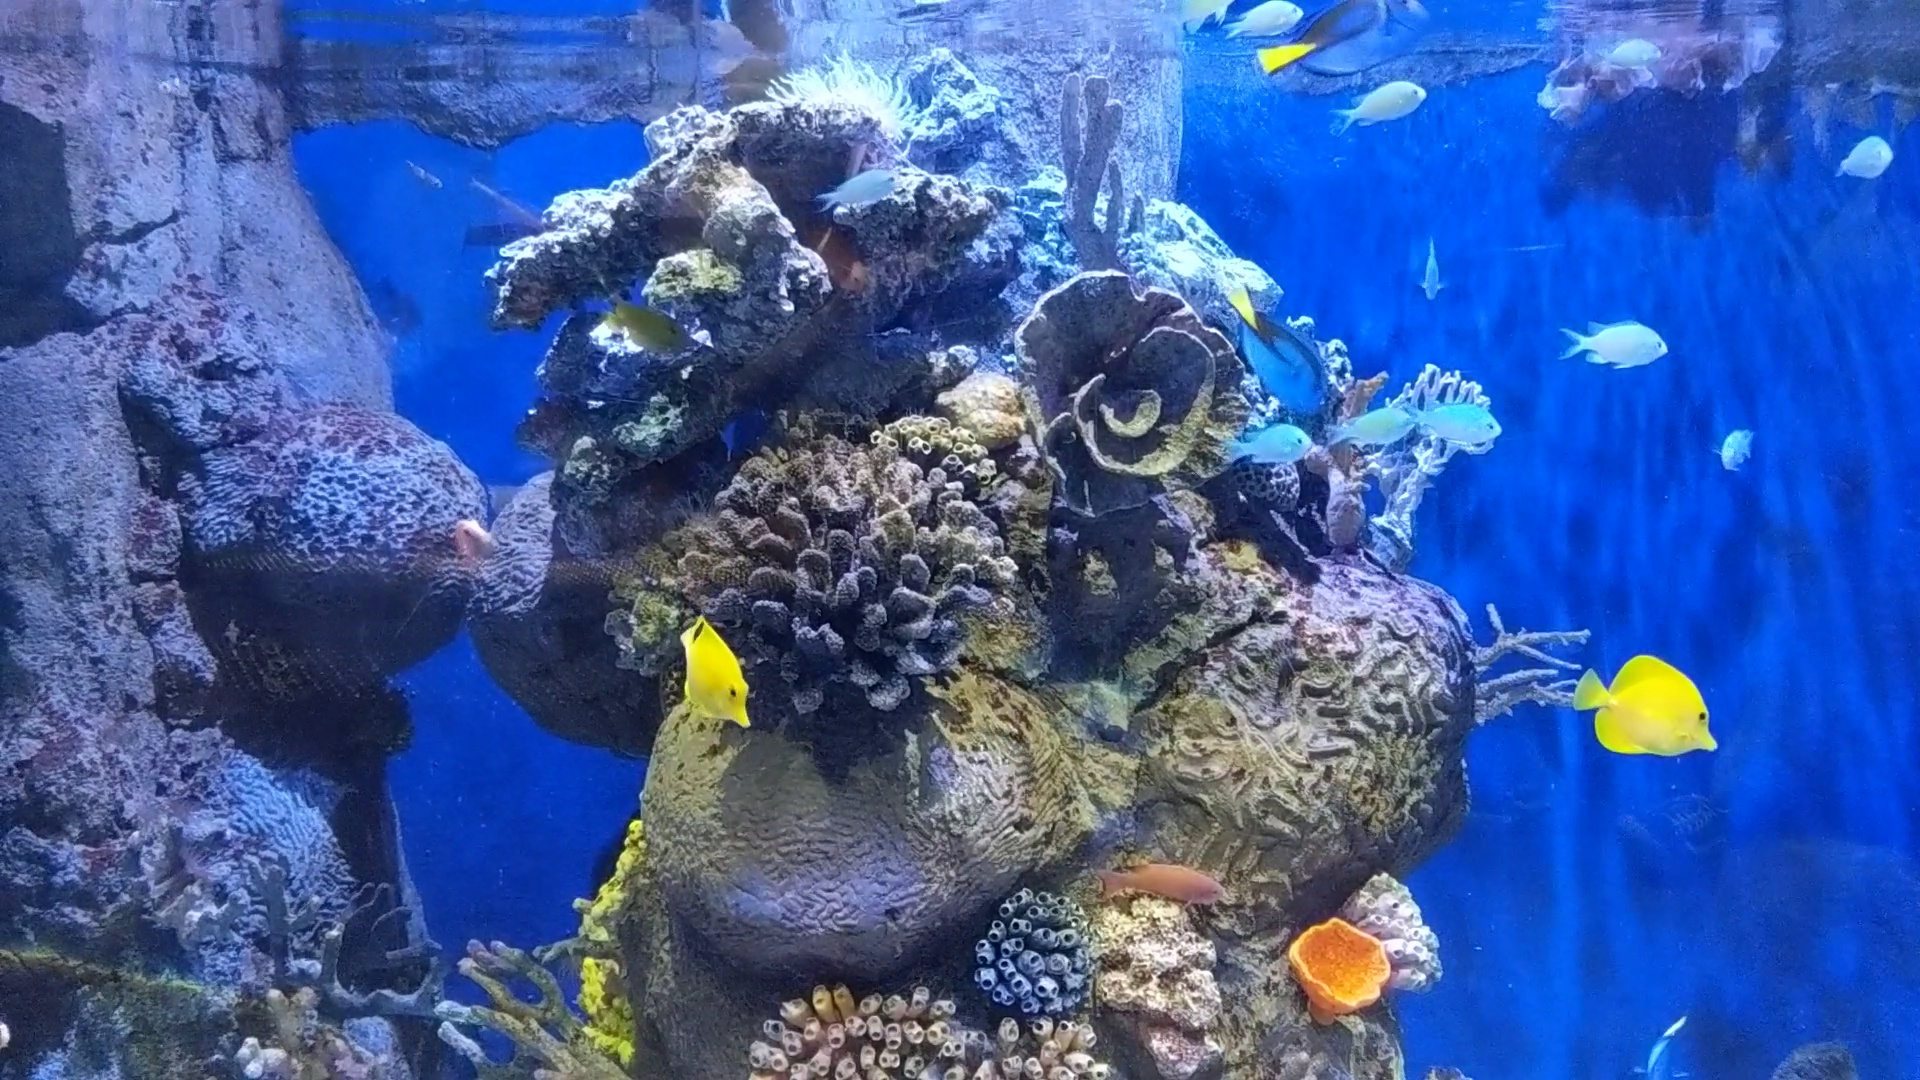blue tang surgeonfish: (1215, 284, 1360, 415), (1251, 0, 1443, 88), (1615, 994, 1741, 1080)
damselfish: (1331, 62, 1455, 156), (1385, 229, 1481, 338), (1549, 315, 1681, 386), (1204, 409, 1321, 487), (1811, 131, 1917, 208), (802, 166, 920, 235), (1585, 15, 1680, 88), (1317, 404, 1418, 465), (1704, 419, 1782, 497), (1404, 392, 1534, 436), (1158, 3, 1257, 54), (1228, 3, 1331, 41)
saddle butterfly fish: (1538, 646, 1745, 764), (650, 597, 789, 723), (589, 297, 729, 386)
